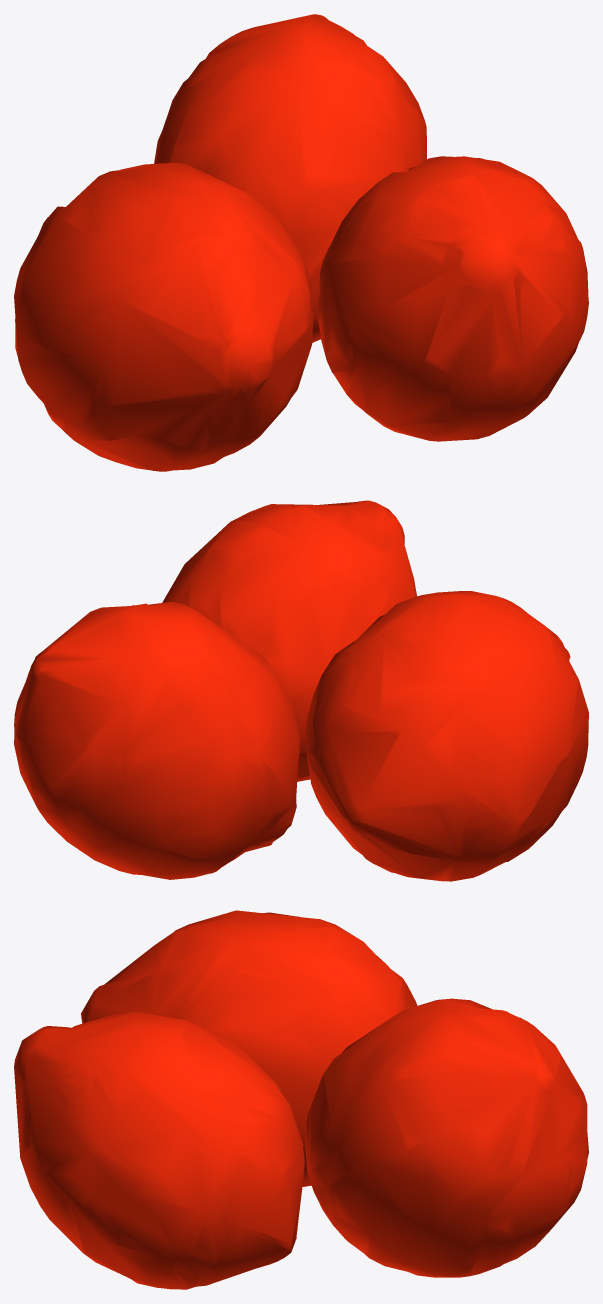
Rendered from tomates.fbx.
The picture shows the model from 3 angles, top to bottom: view 1: azimuth 30°, elevation 25°; view 2: azimuth 150°, elevation 25°; view 3: azimuth 270°, elevation 25°; orthographic projection. The views are drawn at different scales.
Visible parts, largest first — view 1: tomates; view 2: tomates; view 3: tomates.
Boxes of the visible parts, x1,y1,x2,y2 form: tomates: [14, 14, 588, 471]; tomates: [14, 500, 588, 881]; tomates: [14, 910, 588, 1289].
Bounding box in the file's own units: 19.07 × 11.13 × 21.25.
